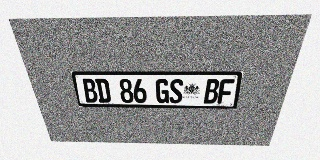6: (132, 79, 147, 103)
8: (119, 79, 134, 103)
B: (81, 79, 99, 103), (203, 79, 220, 104)
D: (95, 79, 111, 103)
F: (217, 79, 235, 104)
G: (156, 79, 169, 103)
S: (169, 79, 183, 103)
